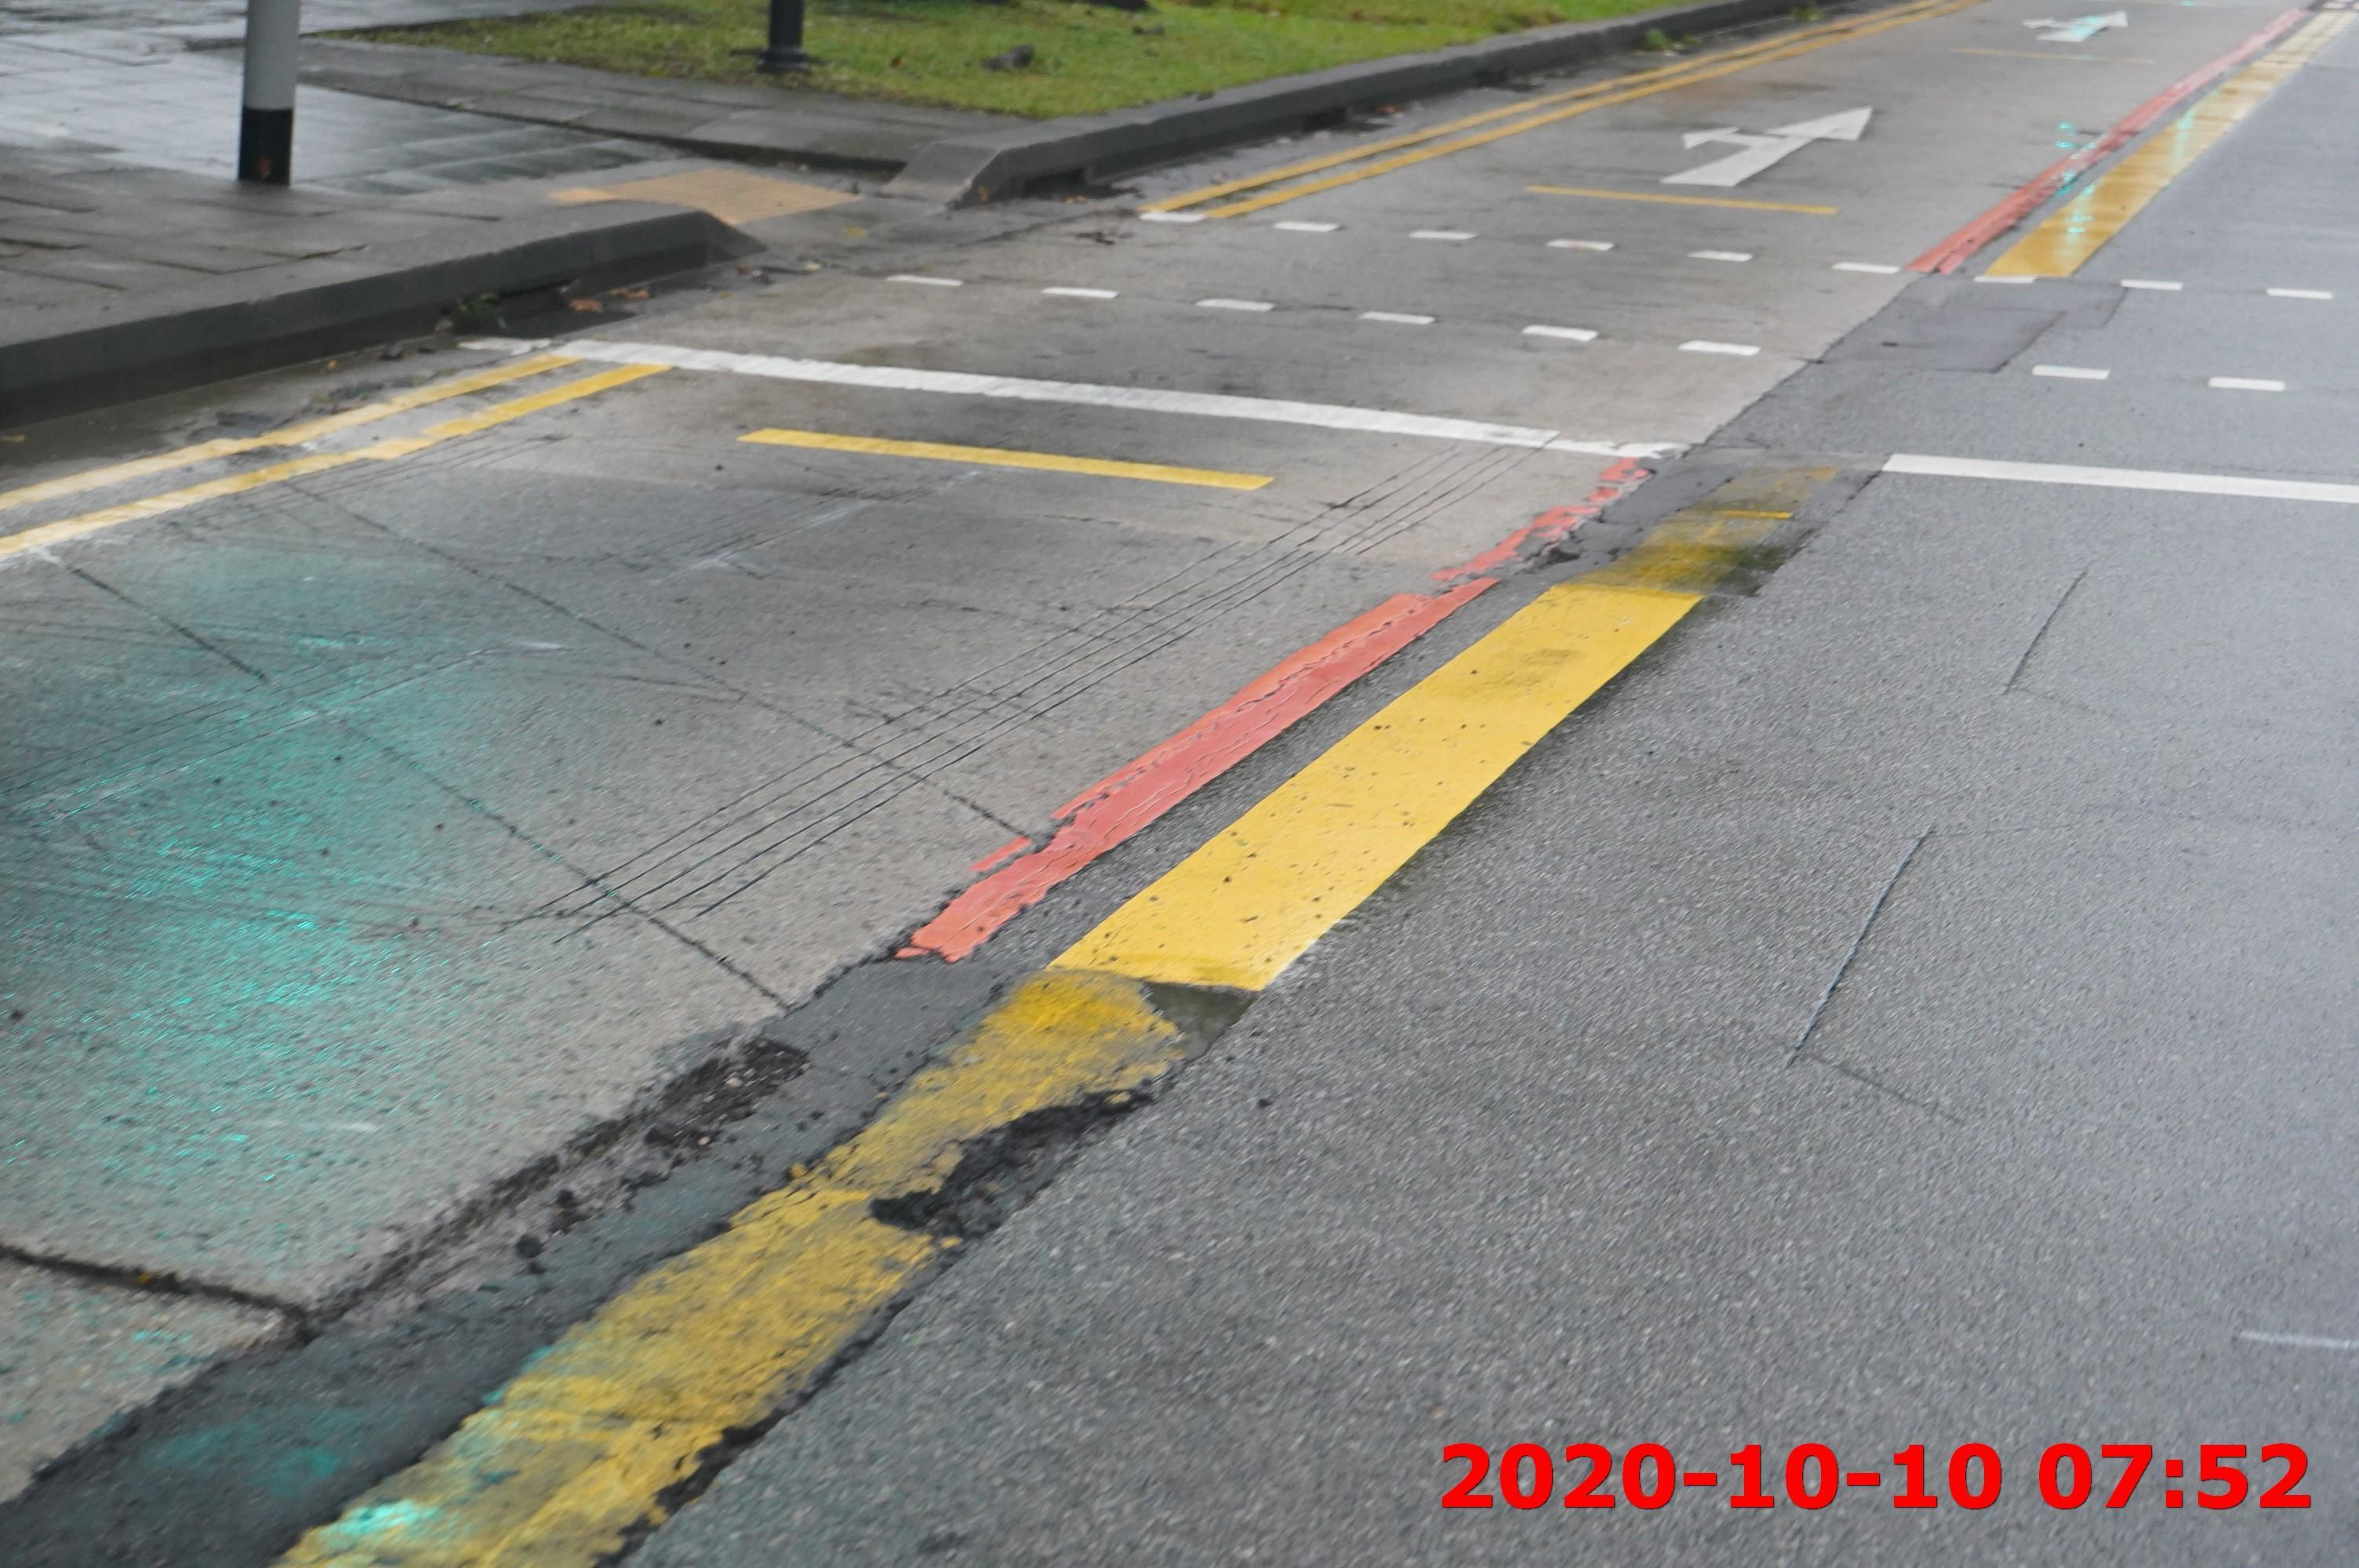peel off with cracks: (861, 1073, 1171, 1257)
